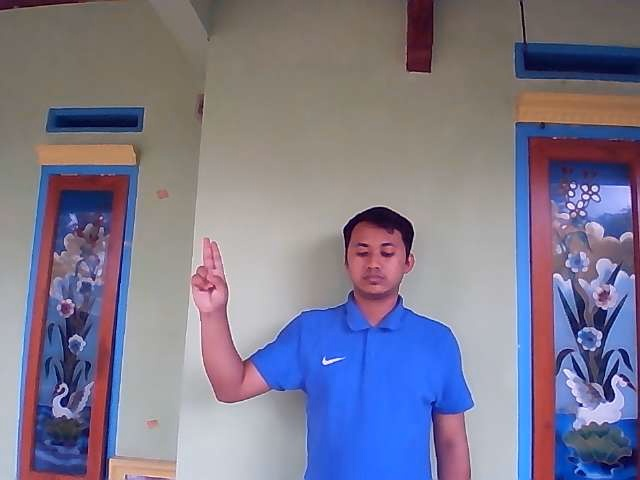U: (189, 236, 230, 316)
